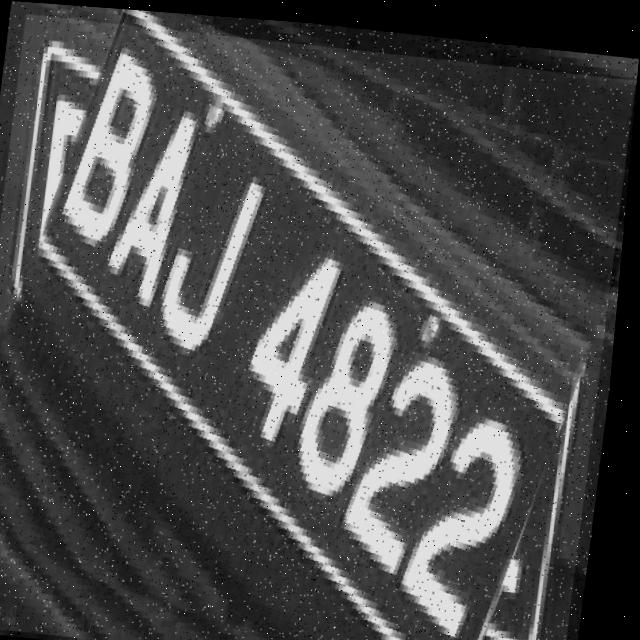LicensePlate: (0, 12, 636, 640)
